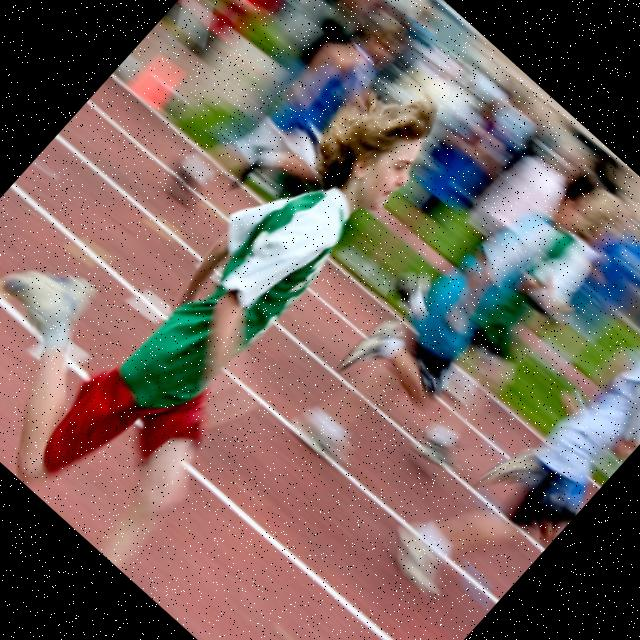Person: (0, 0, 493, 569), (378, 247, 640, 632)
